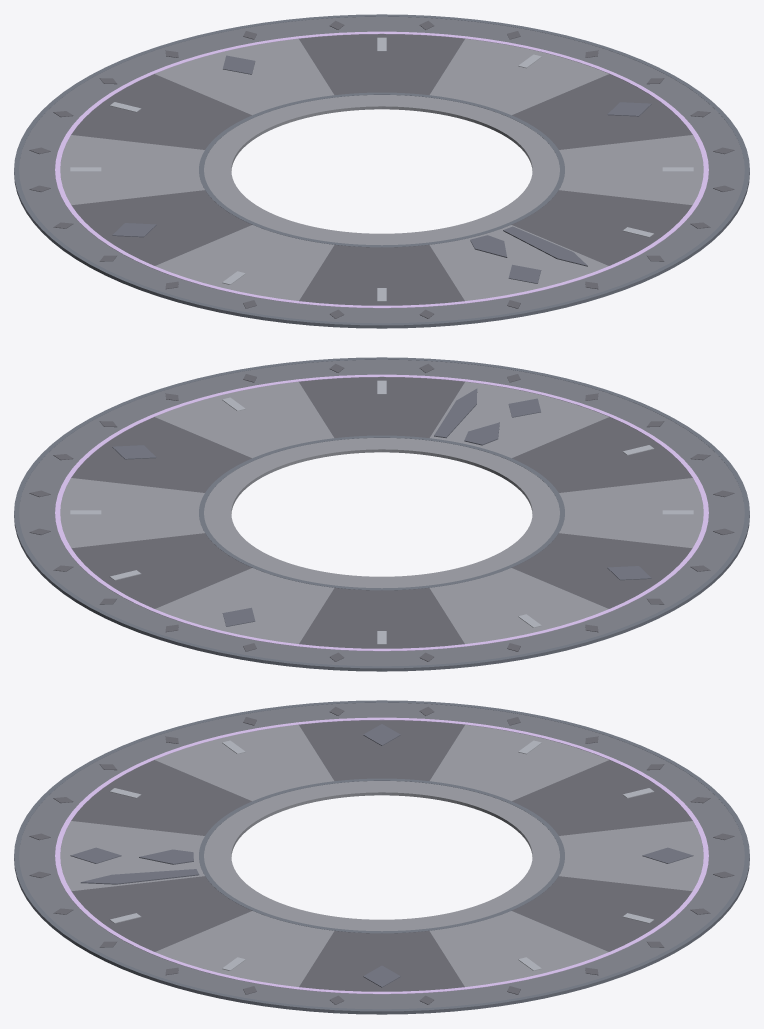
File: PR_Mosaico_Brasao.fbx
3 renders of one model, top to bottom at view 1: azimuth 30°, elevation 25°; view 2: azimuth 150°, elevation 25°; view 3: azimuth 270°, elevation 25°, orthographic.
Parts seen in each view (by area): view 1: PR_Mosaico_Brasao; view 2: PR_Mosaico_Brasao; view 3: PR_Mosaico_Brasao.
Boxes of the visible parts, <box> form: PR_Mosaico_Brasao: <box>14,14,749,328</box>; PR_Mosaico_Brasao: <box>14,357,749,671</box>; PR_Mosaico_Brasao: <box>14,700,749,1014</box>.
Bounding box in the file's own units: 21.5 × 0.125 × 21.5.
